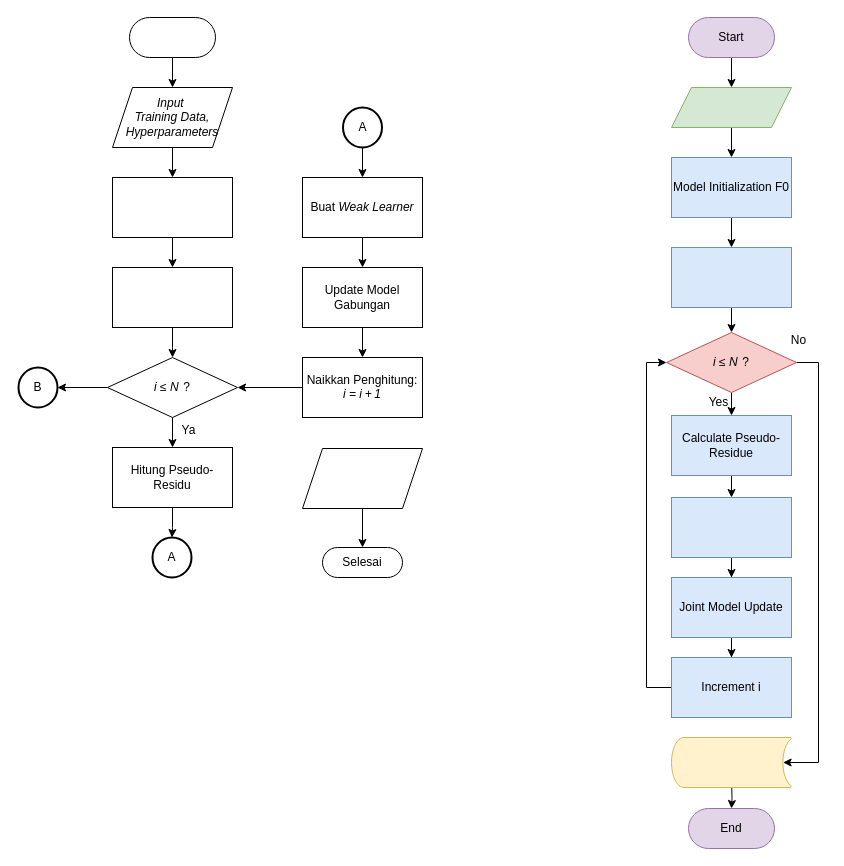
The diagram is 844 pixels wide and 866 high, and some of its shapes have lost their labels. Each missing label, with the centre of its shape:
"Final Model" belongs at pixel 731 762.
"Inisialisasi Loop: Atur penghitung pohon, i = 1" belongs at pixel 172 297.
"Inisialisasi Model: Buat prediksi awal" belongs at pixel 172 207.
"Input Data & Hyperparameters" belongs at pixel 731 107.
"Loop Initialization i=1" belongs at pixel 731 277.
"Model Final" belongs at pixel 362 478.
"Mulai" belongs at pixel 172 37.
"Train Weak Learner" belongs at pixel 731 527.
